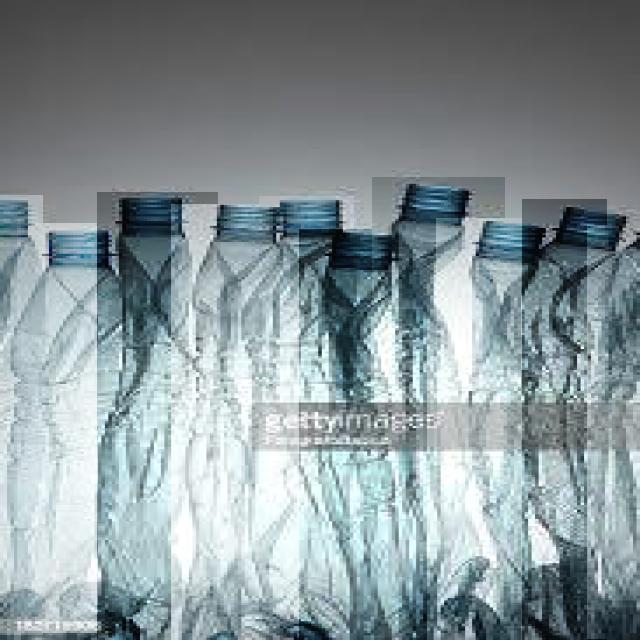BIODEGRADABLE: (97, 192, 218, 640), (299, 229, 427, 640), (17, 223, 144, 633), (171, 204, 285, 640), (259, 196, 354, 640), (522, 199, 607, 640), (436, 218, 578, 387), (587, 225, 640, 639), (0, 195, 43, 635), (372, 177, 505, 309)
